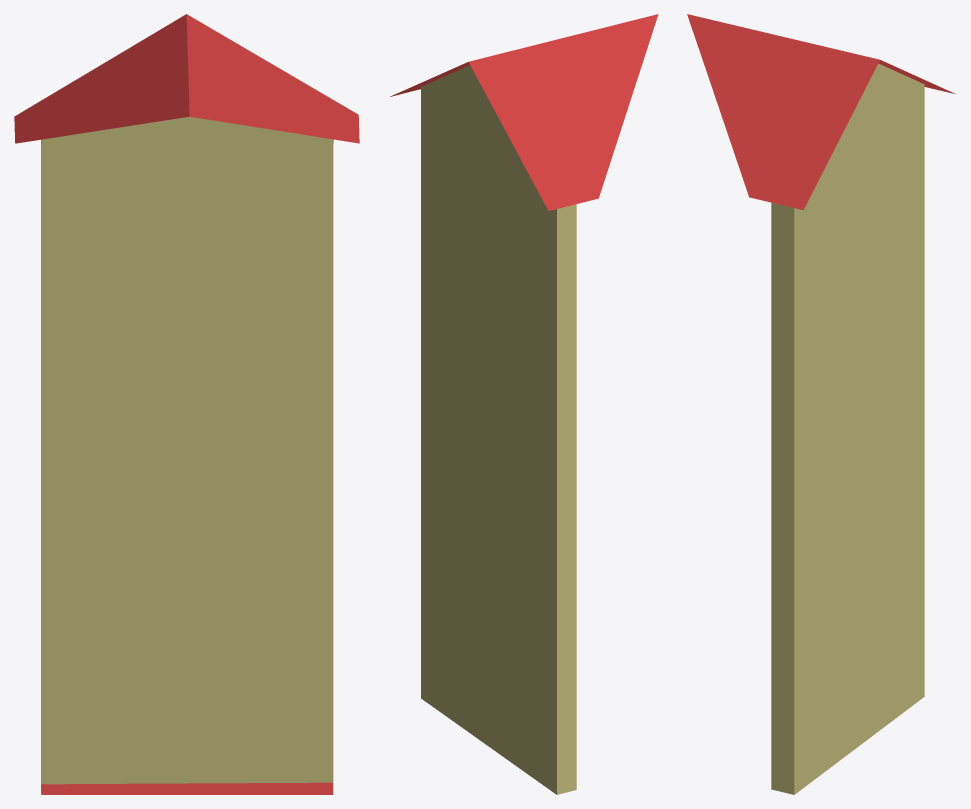
The picture shows the model from 3 angles, left to right: view 1: azimuth 30°, elevation 25°; view 2: azimuth 150°, elevation 25°; view 3: azimuth 270°, elevation 25°; orthographic projection. The views are drawn at different scales.
Parts seen in each view (by area): view 1: group_5, group_3, group_6; view 2: group_5, group_3; view 3: group_5, group_3.
Boxes of the visible parts, left/top/right/bottom form: group_5: left=41, top=116, right=333, bottom=793; group_3: left=14, top=14, right=359, bottom=143; group_6: left=41, top=782, right=333, bottom=794; group_5: left=421, top=65, right=576, bottom=794; group_3: left=390, top=14, right=658, bottom=210; group_5: left=771, top=63, right=924, bottom=794; group_3: left=687, top=14, right=955, bottom=209.
Size of the model in its own units: 6.34 by 5.66 by 15.99.
